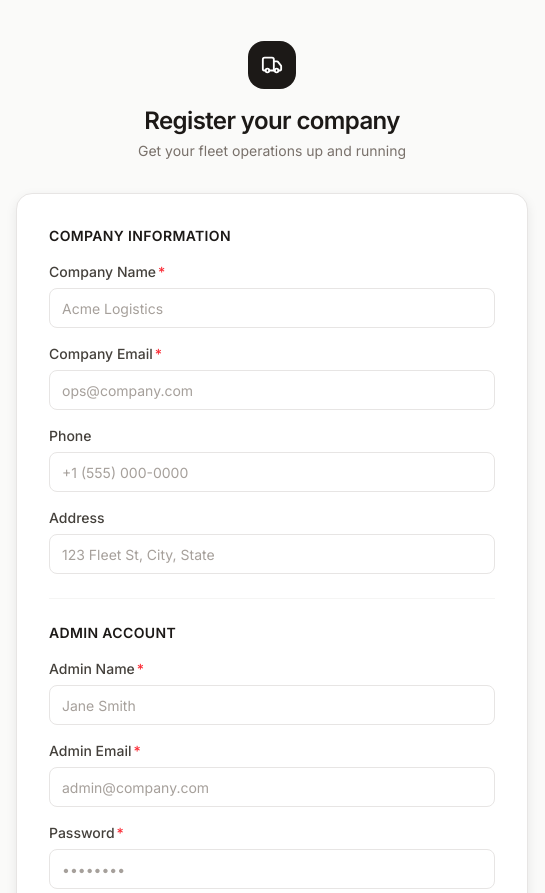
Scenario: RegisterPage › shows generic fallback error when server returns no message
The width and height of the screenshot is (545, 893).
Type "Corp" into the field with placeholder "Acme Logistics" at point(272, 308), box top-left (49, 288), bottom-right (495, 328)
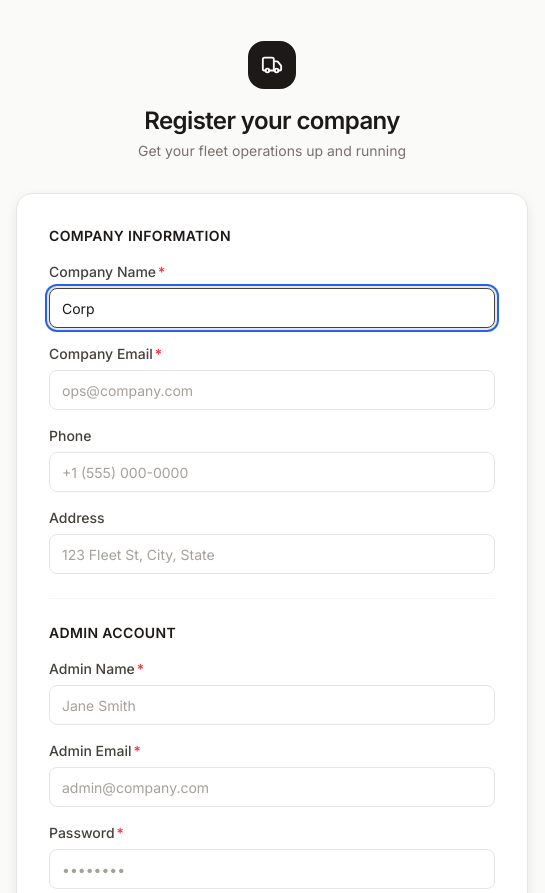
Type "a@b.com" into the field with placeholder "ops@company.com" at point(272, 390), box top-left (49, 370), bottom-right (495, 410)
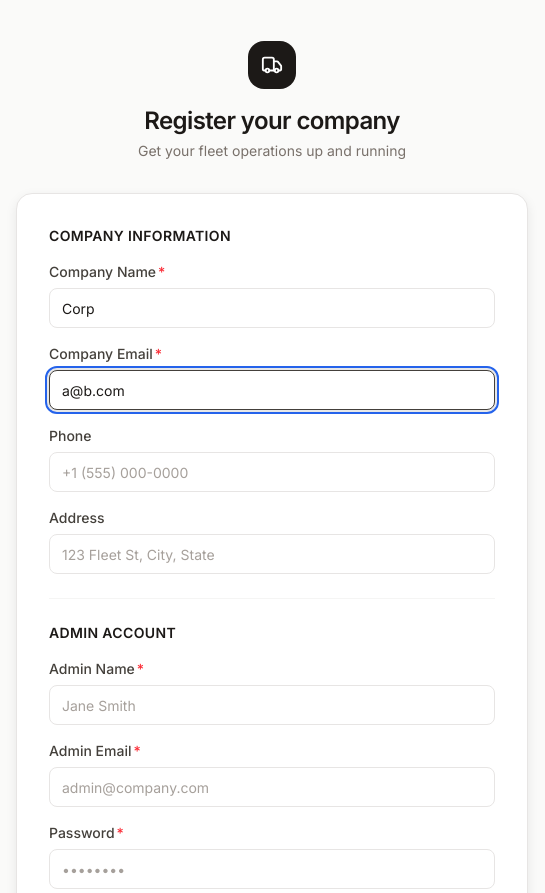
Type "Jane" into the field with placeholder "Jane Smith" at point(272, 705), box top-left (49, 685), bottom-right (495, 725)
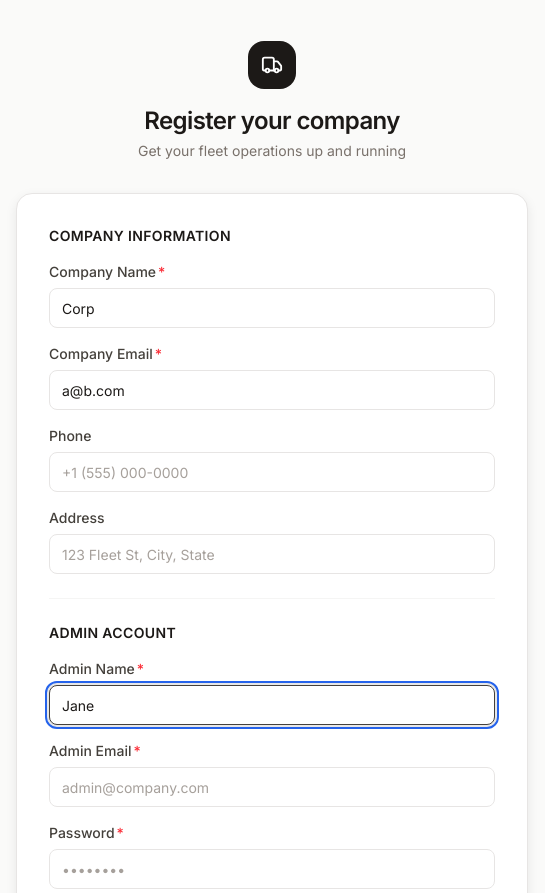
Type "a@b.com" into the field with placeholder "admin@company.com" at point(272, 787), box top-left (49, 767), bottom-right (495, 807)
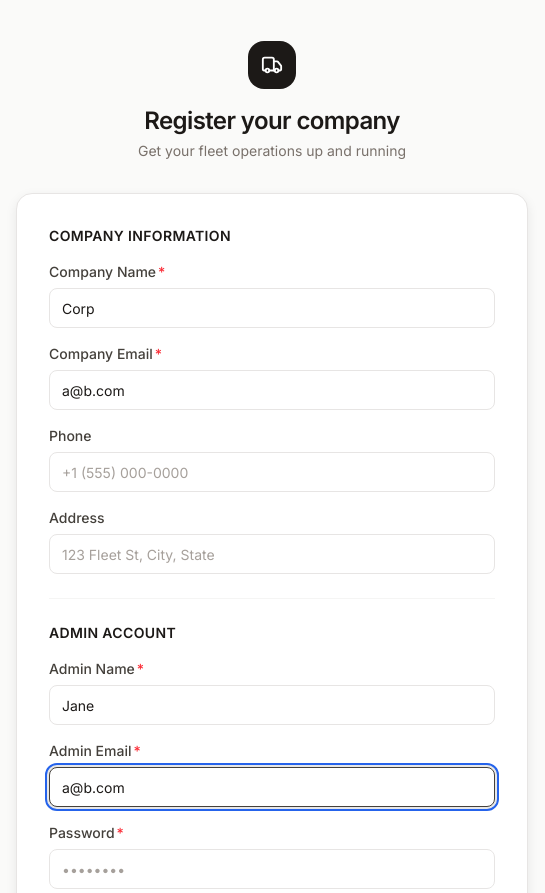
Type "password123" into the password field with placeholder "••••••••" at point(272, 869), box top-left (49, 849), bottom-right (495, 889)
(page scrolled)
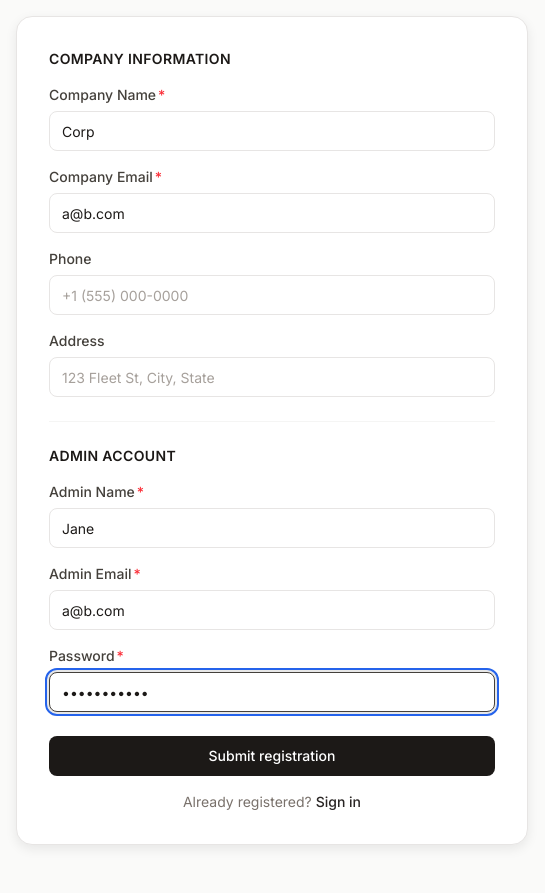
Click the button "Submit registration" at point(272, 756), box top-left (49, 736), bottom-right (495, 776)
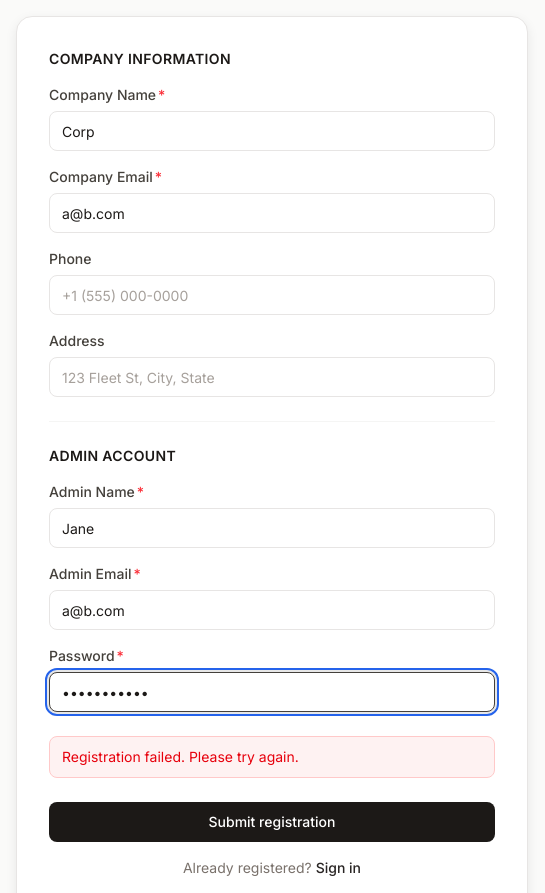
Expected: the text "Registration failed. Please try again." is shown, top-left (62, 748), bottom-right (299, 765)
